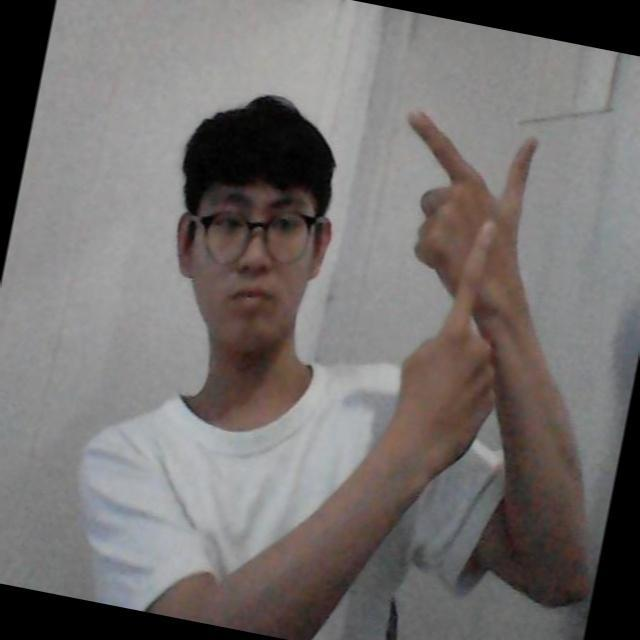Y: (399, 71, 538, 472)
